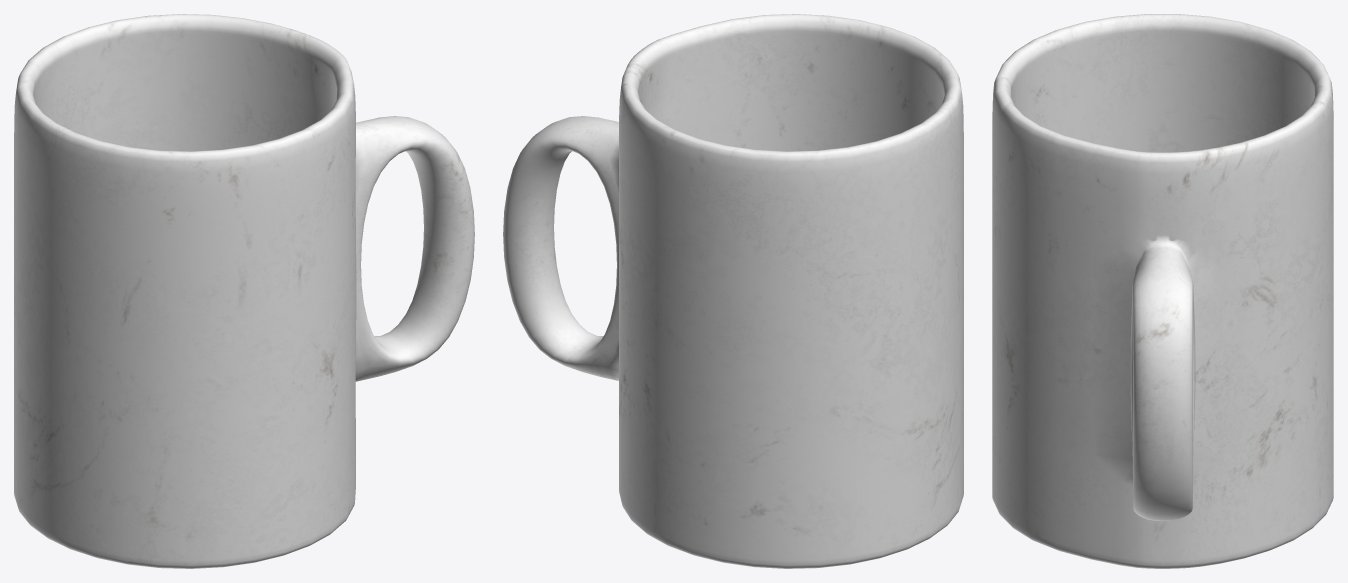
The model's file is mug.glb.
3 views of the same model, side by side, from view 1: azimuth 30°, elevation 25°; view 2: azimuth 150°, elevation 25°; view 3: azimuth 270°, elevation 25° (orthographic).
Parts seen in each view (by area): view 1: CoffeeCup_High_0; view 2: CoffeeCup_High_0; view 3: CoffeeCup_High_0.
Boxes of the visible parts, bbox=[...] form: CoffeeCup_High_0: bbox=[14, 14, 474, 568]; CoffeeCup_High_0: bbox=[503, 14, 963, 568]; CoffeeCup_High_0: bbox=[992, 14, 1333, 568].
Bounding box in the file's own units: 0.1257 × 0.1166 × 0.0866.
Materials: 1 (1 with a texture image).
